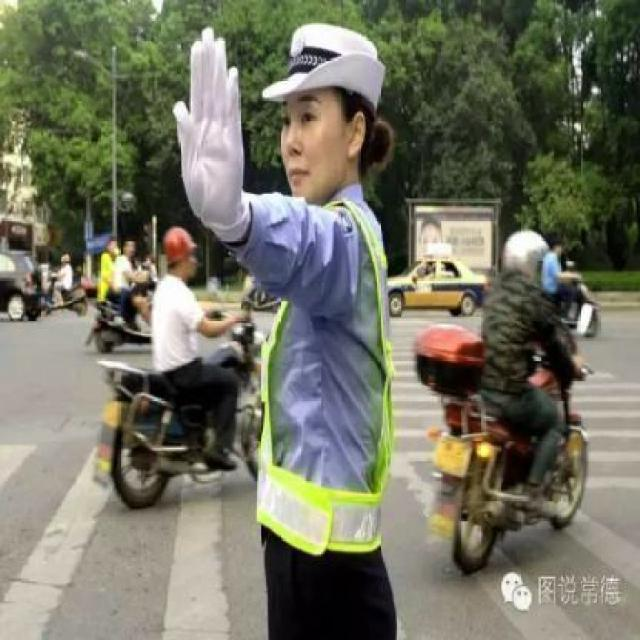face_nomask: (269, 88, 342, 204)
hand_glove: (174, 26, 248, 217)
hand_noglove: (234, 308, 248, 322)
head_helmet: (157, 226, 201, 263)
person: (138, 17, 420, 640)
vest: (255, 193, 402, 555)
